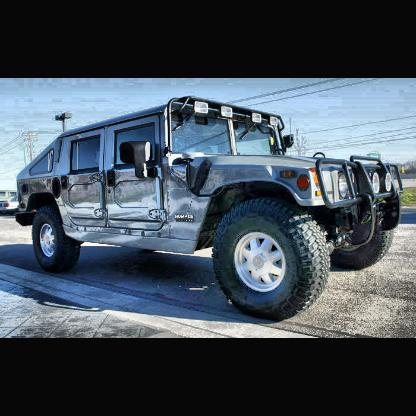AM General Hummer SUV 2000: (16, 97, 402, 326)
